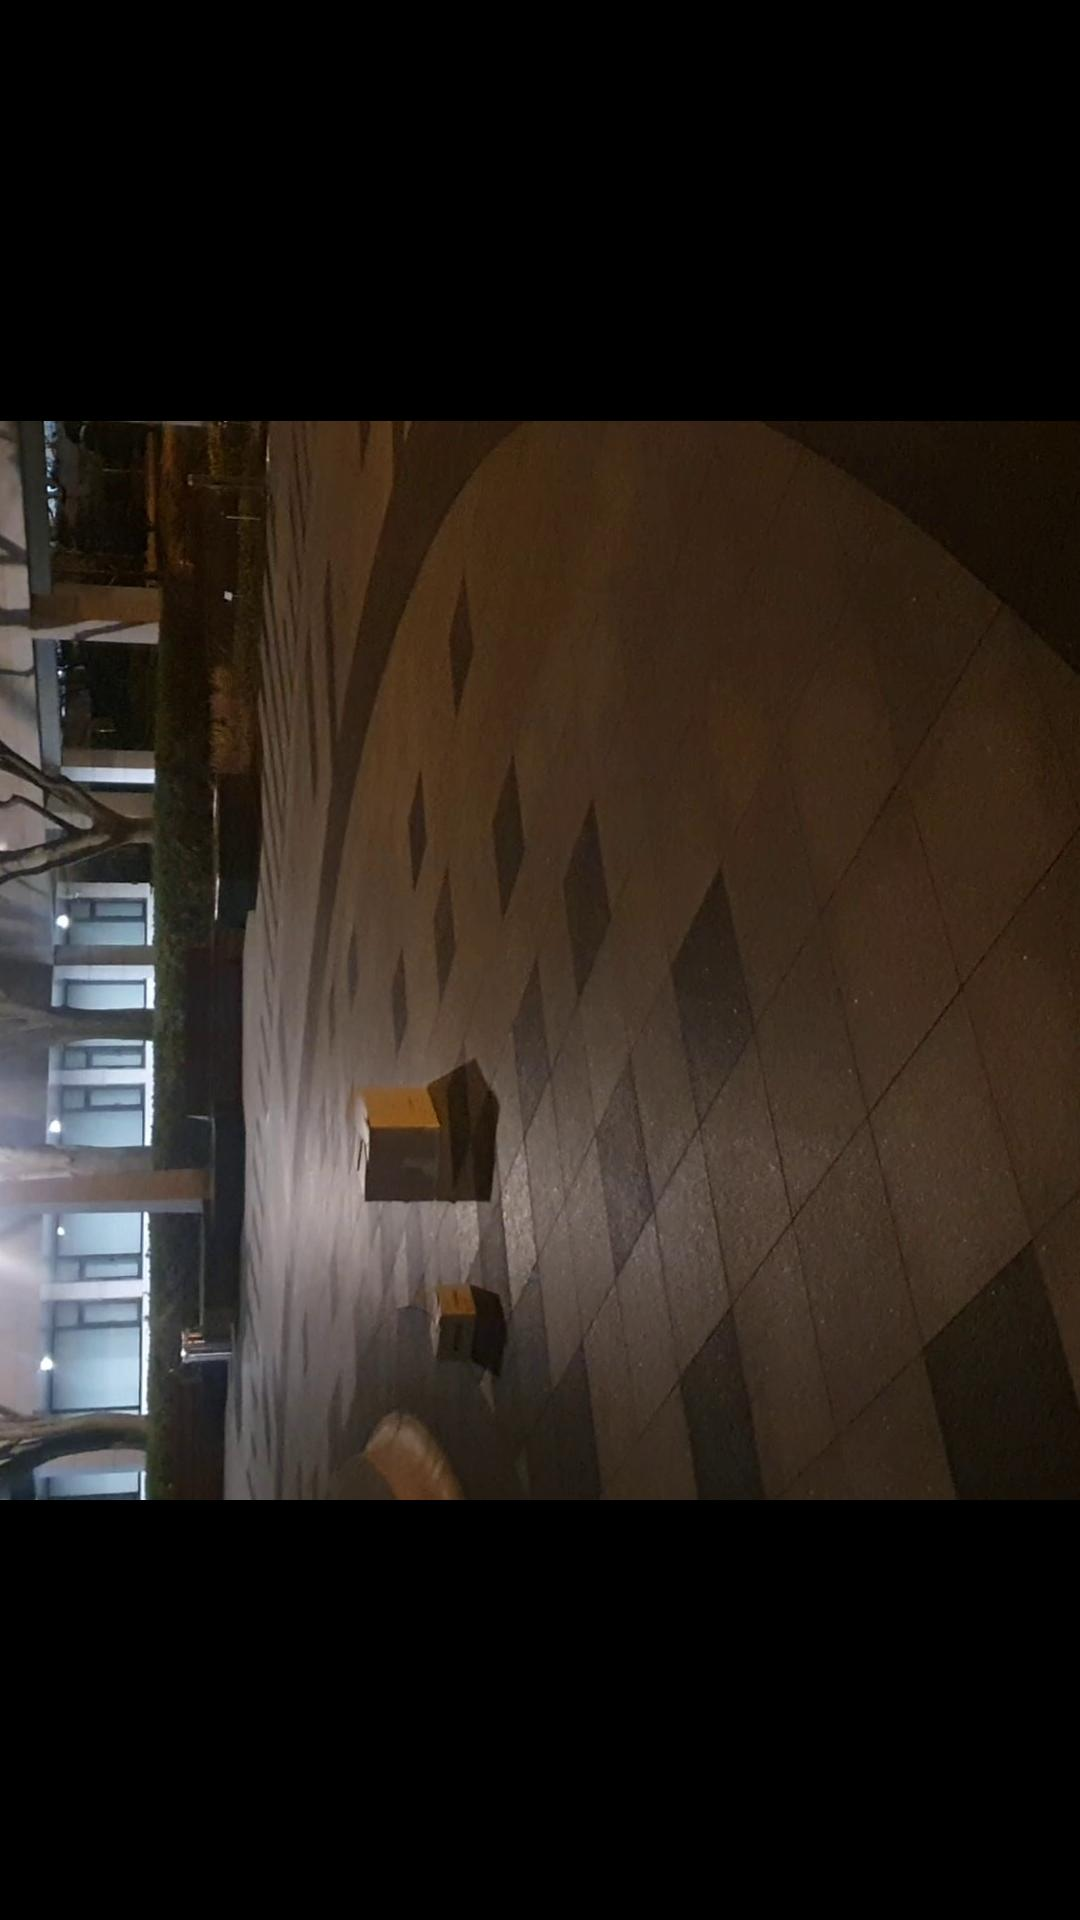Box: (340, 1062, 472, 1218), (410, 1275, 492, 1369)
